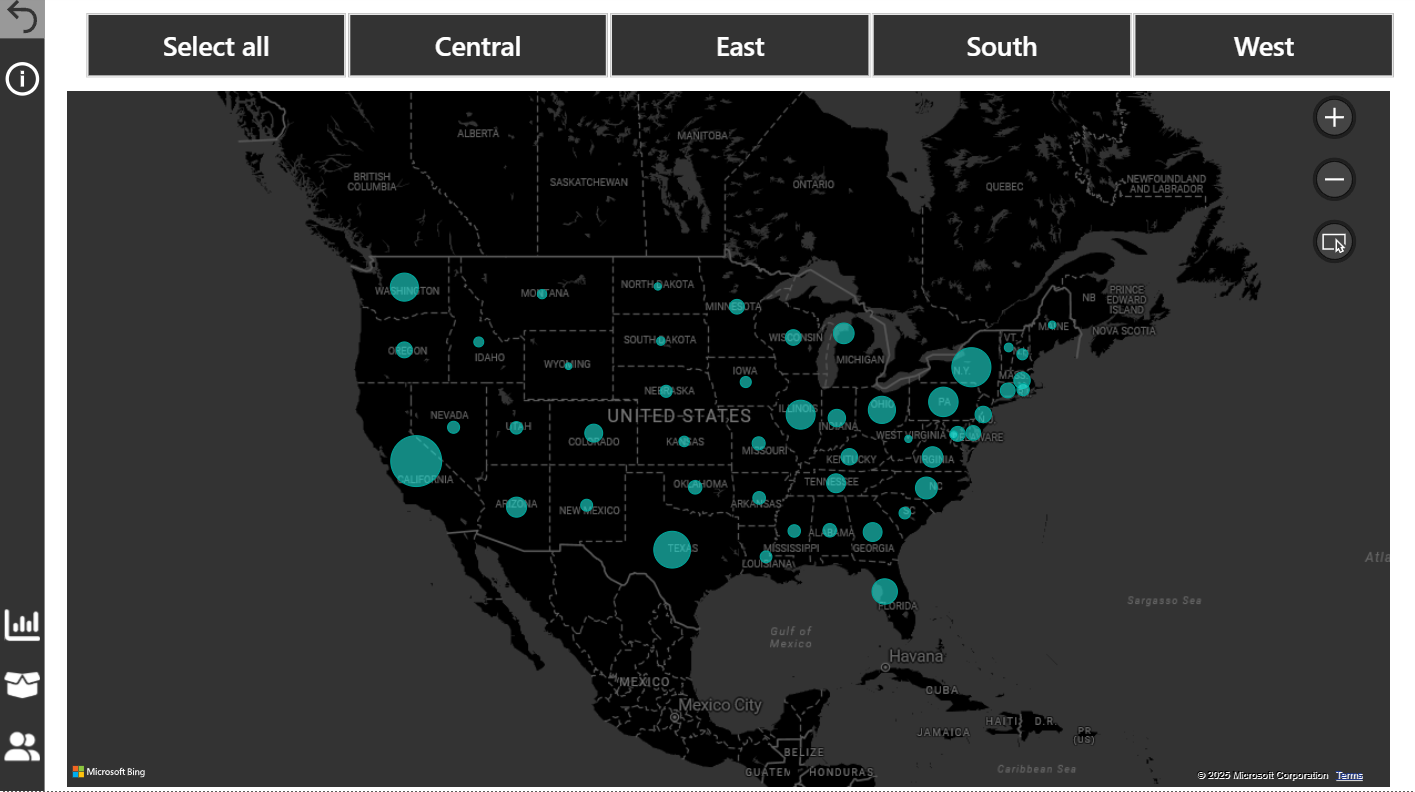

The dashboard page shown, as its layout file describes it:
{"tool":"powerbi","page":{"name":"Map View","canvas":[1280,720],"ordinal":1},"visuals":[{"type":"shape","box":[0,0,40.4,720.2],"z":0},{"type":"map","fields":{"Size":["Measure Table.Total Orders"],"Category":["Superstore Data.State"]},"box":[55,81.9,1203.3,638.3],"z":1000},{"type":"slicer","fields":{"Values":["Superstore Data.Region"]},"box":[51.4,9.8,1228.9,72.1],"z":2000},{"type":"actionButton","box":[0,0,40.4,40.4],"z":3000},{"type":"actionButton","box":[0,56.3,40.4,40.4],"z":3001},{"type":"actionButton","box":[0,549.1,40.4,40.4],"z":3002},{"type":"actionButton","box":[0,602.9,40.4,40.4],"z":3003},{"type":"actionButton","box":[0,657.9,40.4,40.4],"z":3004}]}

Visuals, with their boxes on the page's 1280x720 design canvas (x1, y1, x2, y2). These are canvas units, not pixel positions in the 1415x792 screenshot, which may show the page scaled, cropped or inside an application window:
shape: left=0, top=0, right=40, bottom=720
map - Measure Table.Total Orders x Superstore Data.State: left=55, top=82, right=1258, bottom=720
slicer - Superstore Data.Region: left=51, top=10, right=1280, bottom=82
actionButton: left=0, top=0, right=40, bottom=40
actionButton: left=0, top=56, right=40, bottom=97
actionButton: left=0, top=549, right=40, bottom=590
actionButton: left=0, top=603, right=40, bottom=643
actionButton: left=0, top=658, right=40, bottom=698
